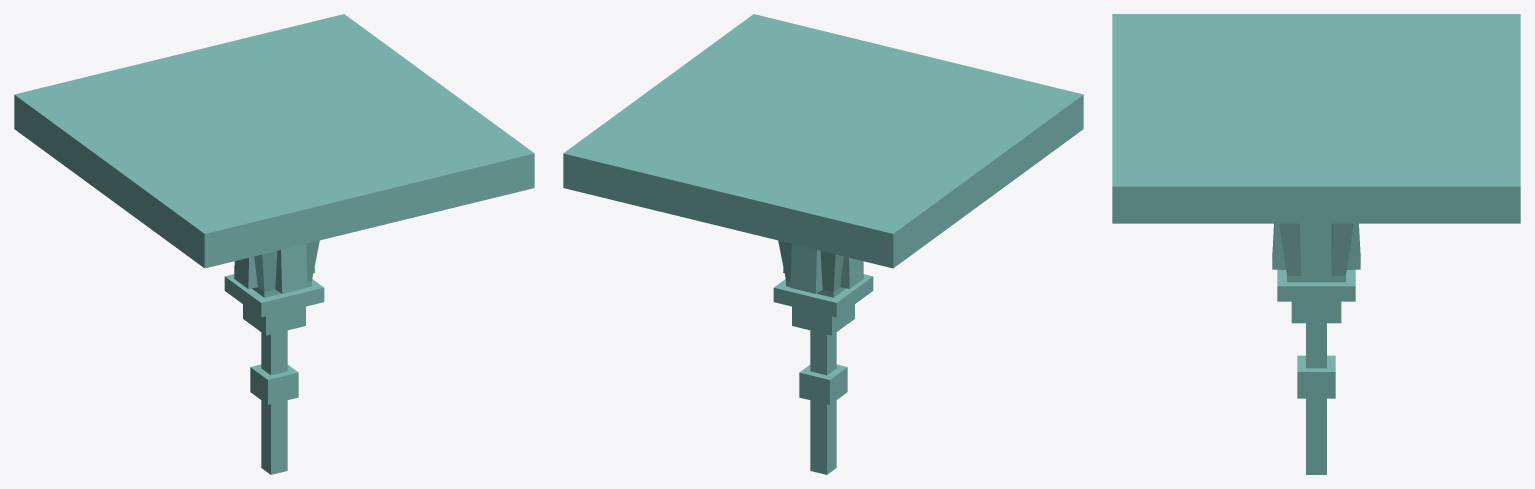
The model's file is EspacioInicialColumnaInteriorAltoNS.gltf.
The picture shows the model from 3 angles, left to right: view 1: azimuth 30°, elevation 25°; view 2: azimuth 150°, elevation 25°; view 3: azimuth 270°, elevation 25°; orthographic projection. The views are drawn at different scales.
Visible parts, largest first — view 1: Columna interna alta 2/2.6; view 2: Columna interna alta 2/2.6; view 3: Columna interna alta 2/2.6.
Part boxes in pixels (x1=…): Columna interna alta 2/2.6: x1=14, y1=14, x2=534, y2=474; Columna interna alta 2/2.6: x1=563, y1=14, x2=1083, y2=474; Columna interna alta 2/2.6: x1=1112, y1=14, x2=1520, y2=474.
Size of the model in its own units: 2 by 2 by 2.
